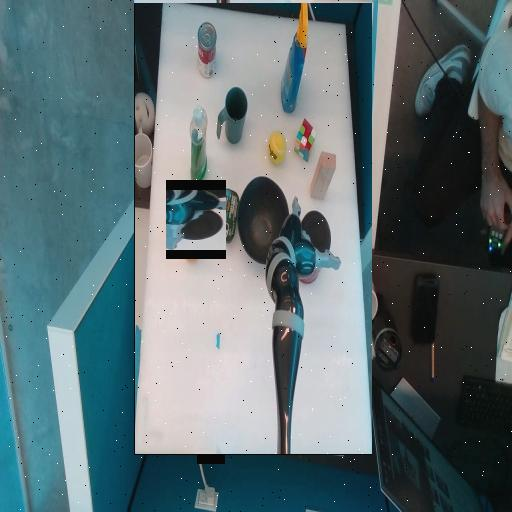bowl: (218, 194, 268, 279)
cleanser: (300, 271, 316, 350)
coffee_can: (176, 174, 214, 245)
jaco: (166, 189, 226, 249)
meat_can: (268, 214, 289, 267)
mug: (259, 313, 289, 369)
mustard_bottle: (305, 220, 324, 239)
rubik: (190, 295, 212, 338)
soup_can: (291, 379, 308, 434)
tennis_ball: (221, 294, 238, 324)
windex: (197, 394, 225, 416)
wooden_block: (171, 258, 195, 304)
workspace: (134, 3, 372, 454)
